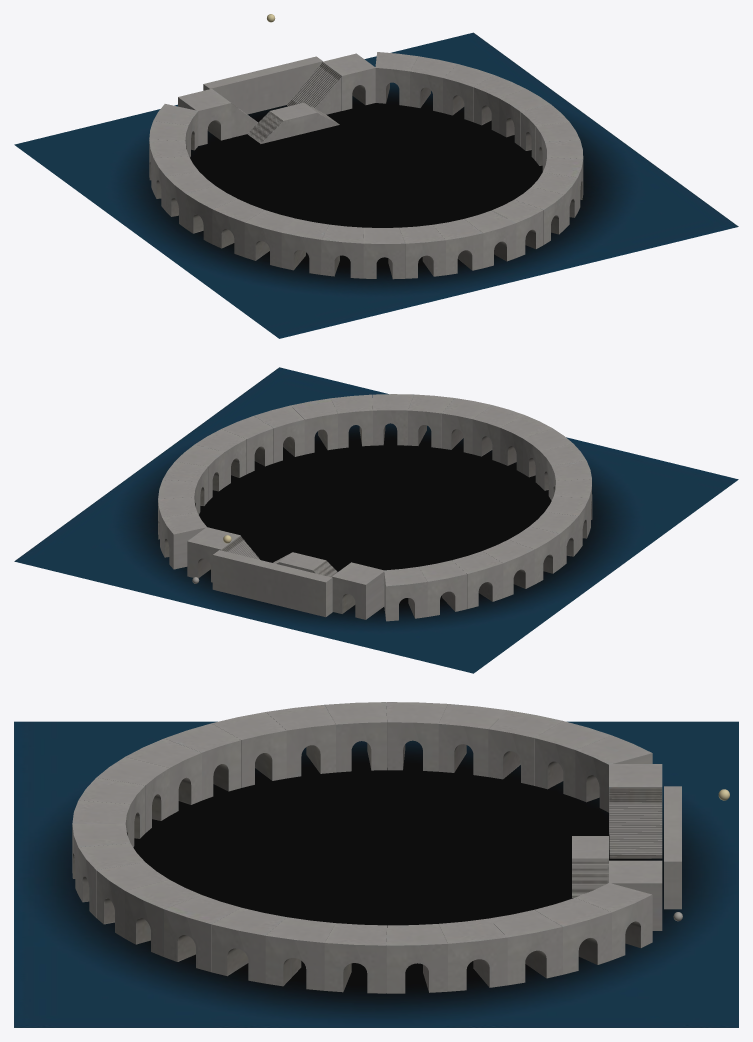
Rendered from Au claire de lune.gltf.
3 views of the same model, one above another, from view 1: azimuth 30°, elevation 25°; view 2: azimuth 150°, elevation 25°; view 3: azimuth 270°, elevation 25° (orthographic). The views are drawn at different scales.
Parts seen in each view (by area): view 1: nowy; view 2: nowy; view 3: nowy.
Part boxes in pixels (bbox=[...]): nowy: bbox=[14, 14, 738, 338]; nowy: bbox=[14, 367, 738, 673]; nowy: bbox=[14, 702, 738, 1027].
Size of the model in its own units: 297 by 46.19 by 297.
1 material, 1 textured.
